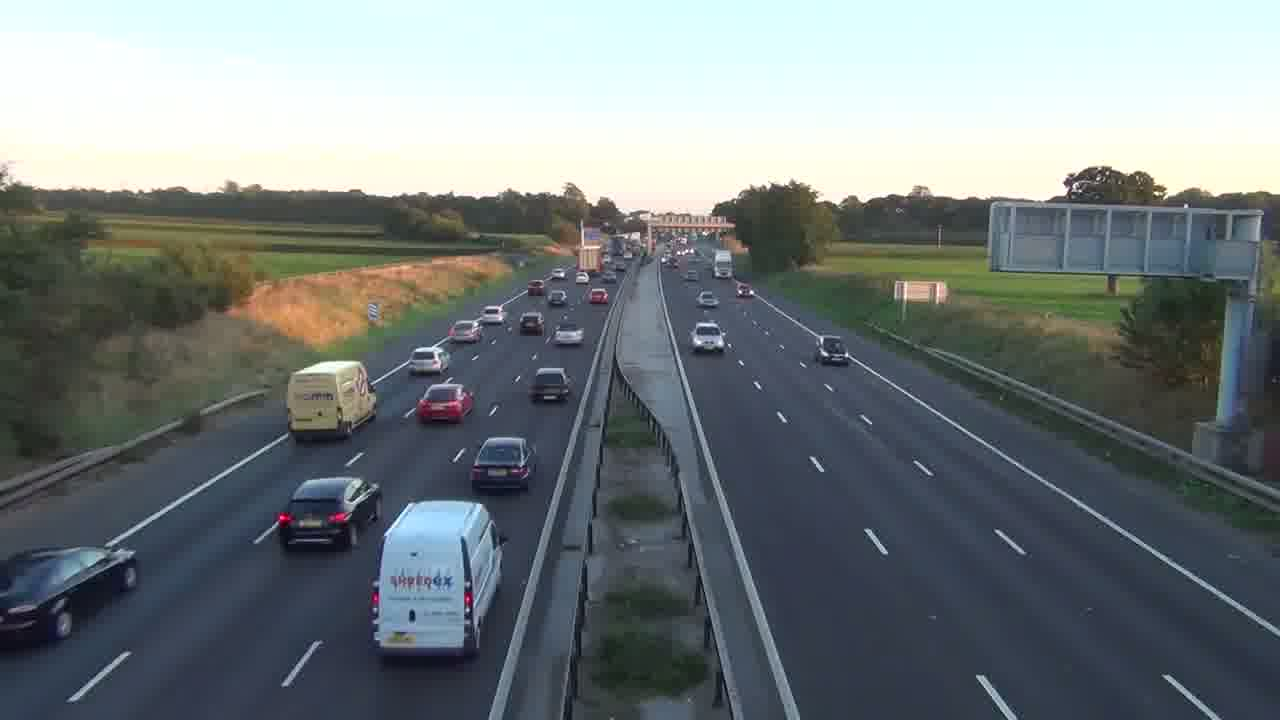bus: (369, 498, 505, 661)
car: (275, 476, 382, 551), (471, 435, 536, 492), (416, 382, 475, 424), (529, 367, 573, 403), (408, 344, 450, 375), (690, 320, 726, 354), (447, 319, 482, 343), (553, 325, 584, 347), (519, 312, 543, 335), (696, 289, 720, 308)
truck: (0, 544, 140, 648), (286, 359, 378, 443)
